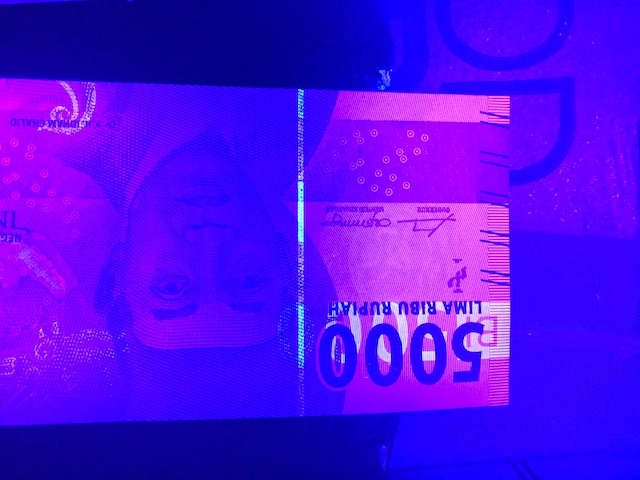5_RIBU_ASLI: (323, 293, 509, 365)
